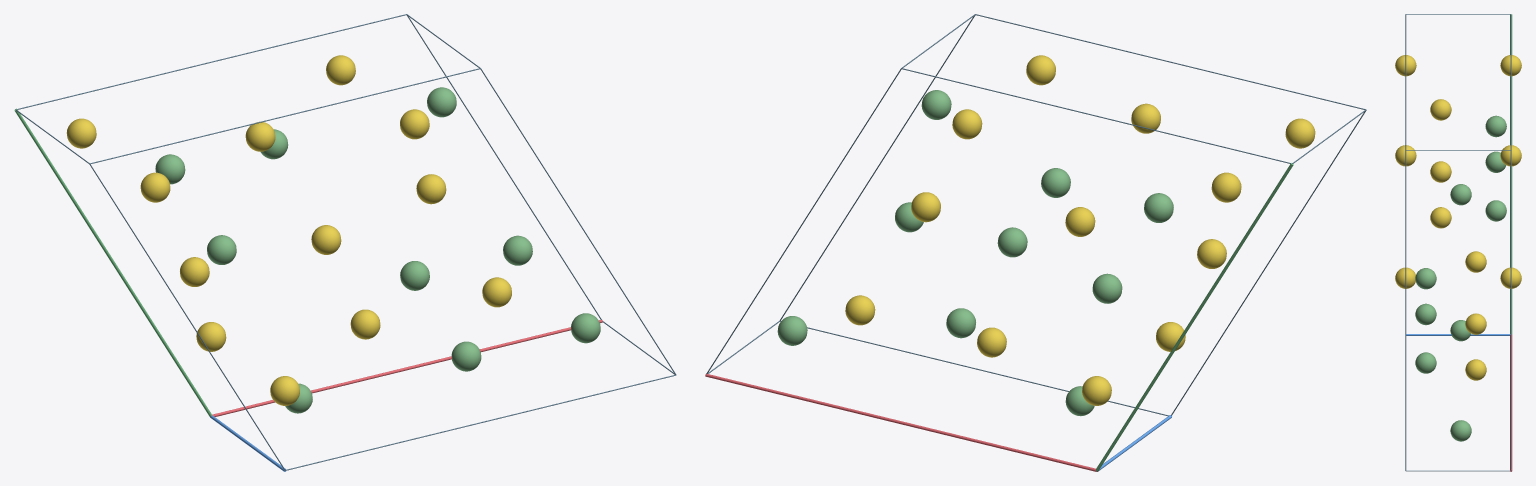
The model's file is chat-millerite.glb.
3 renders of one model, left to right at view 1: azimuth 30°, elevation 25°; view 2: azimuth 150°, elevation 25°; view 3: azimuth 270°, elevation 25°, orthographic. The views are drawn at different scales.
Parts seen in each view (by area): view 1: S · S · 1 (×12), Ô mạng và các trục a, b, c, Ni · Ni · 1 (×6); view 2: S · S · 1 (×11), Ô mạng và các trục a, b, c, Ni · Ni · 1 (×7); view 3: S · S · 1 (×12), Ni · Ni · 1 (×9), Ô mạng và các trục a, b, c.
Part boxes in pixels (box(x1,y1,x2,y2)): S · S · 1 (×12): box(66, 55, 511, 405); Ô mạng và các trục a, b, c: box(14, 14, 676, 471); Ni · Ni · 1 (×6): box(207, 87, 600, 371); S · S · 1 (×11): box(845, 55, 1315, 405); Ô mạng và các trục a, b, c: box(705, 14, 1366, 471); Ni · Ni · 1 (×7): box(777, 90, 1173, 345); S · S · 1 (×12): box(1395, 55, 1521, 380); Ni · Ni · 1 (×9): box(1415, 115, 1506, 441); Ô mạng và các trục a, b, c: box(1405, 14, 1512, 471).
Bounding box in the file's own units: 14.45 × 8.37 × 3.78.
